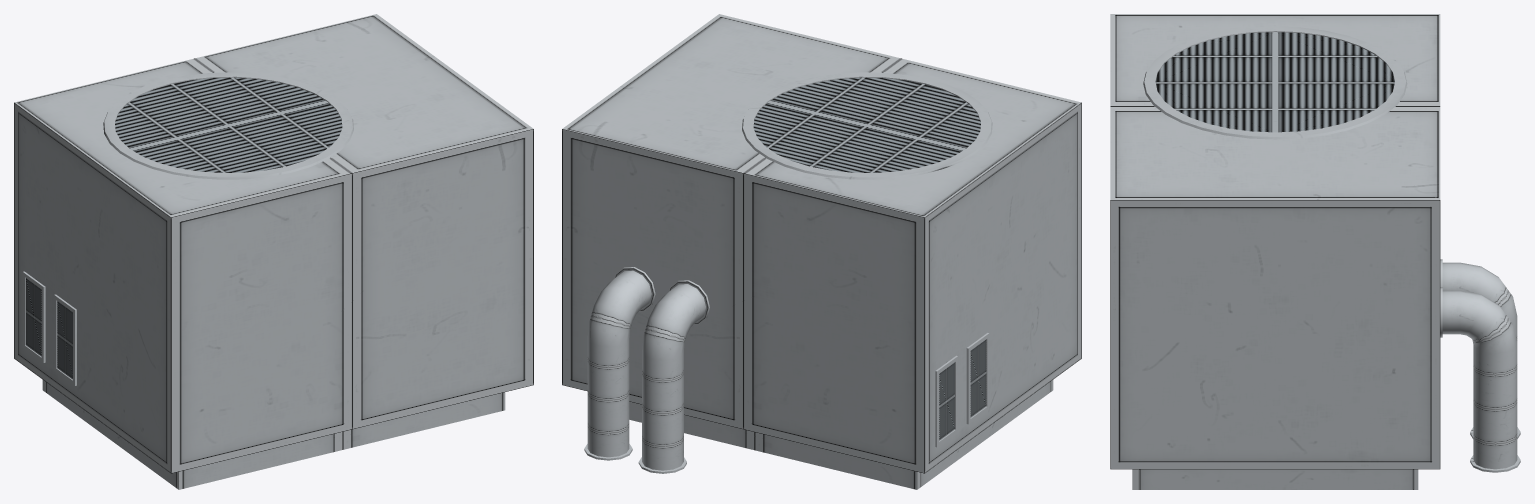
Rendered from AirConditioner_01.FBX.
3 views of the same model, side by side, from view 1: azimuth 30°, elevation 25°; view 2: azimuth 150°, elevation 25°; view 3: azimuth 270°, elevation 25° (orthographic). The views are drawn at different scales.
Parts seen in each view (by area): view 1: AirConditioner_01; view 2: AirConditioner_01; view 3: AirConditioner_01.
Part boxes in pixels (<box>): AirConditioner_01: <box>14,14,533,489</box>; AirConditioner_01: <box>562,14,1081,489</box>; AirConditioner_01: <box>1110,14,1520,489</box>.
Size of the model in its own units: 4.02 by 3.02 by 3.73.
2 materials, 2 textured.
